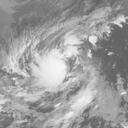cyclone: (30, 52, 71, 91)
